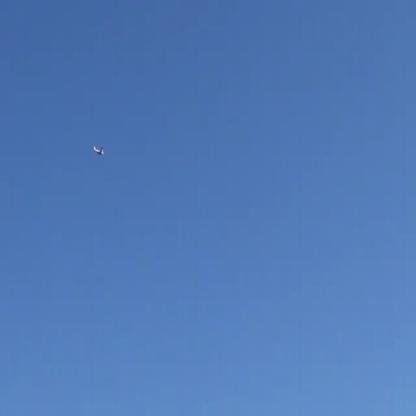CIV_Plane: (93, 146, 104, 156)
